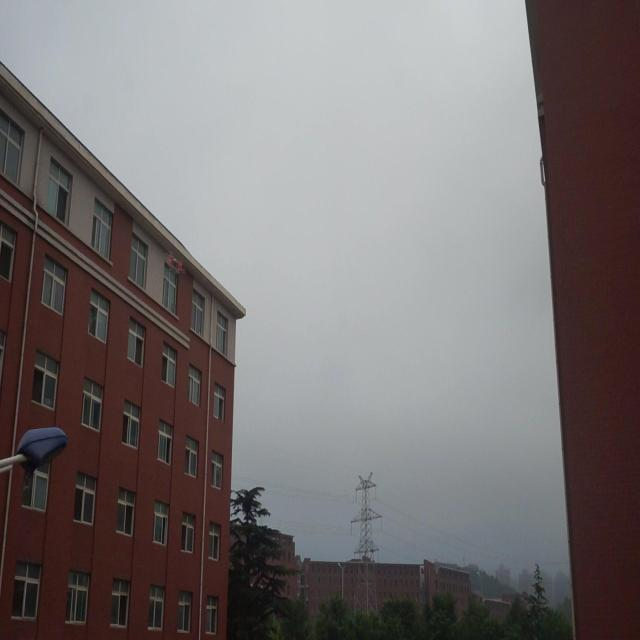drone: (165, 250, 186, 278)
